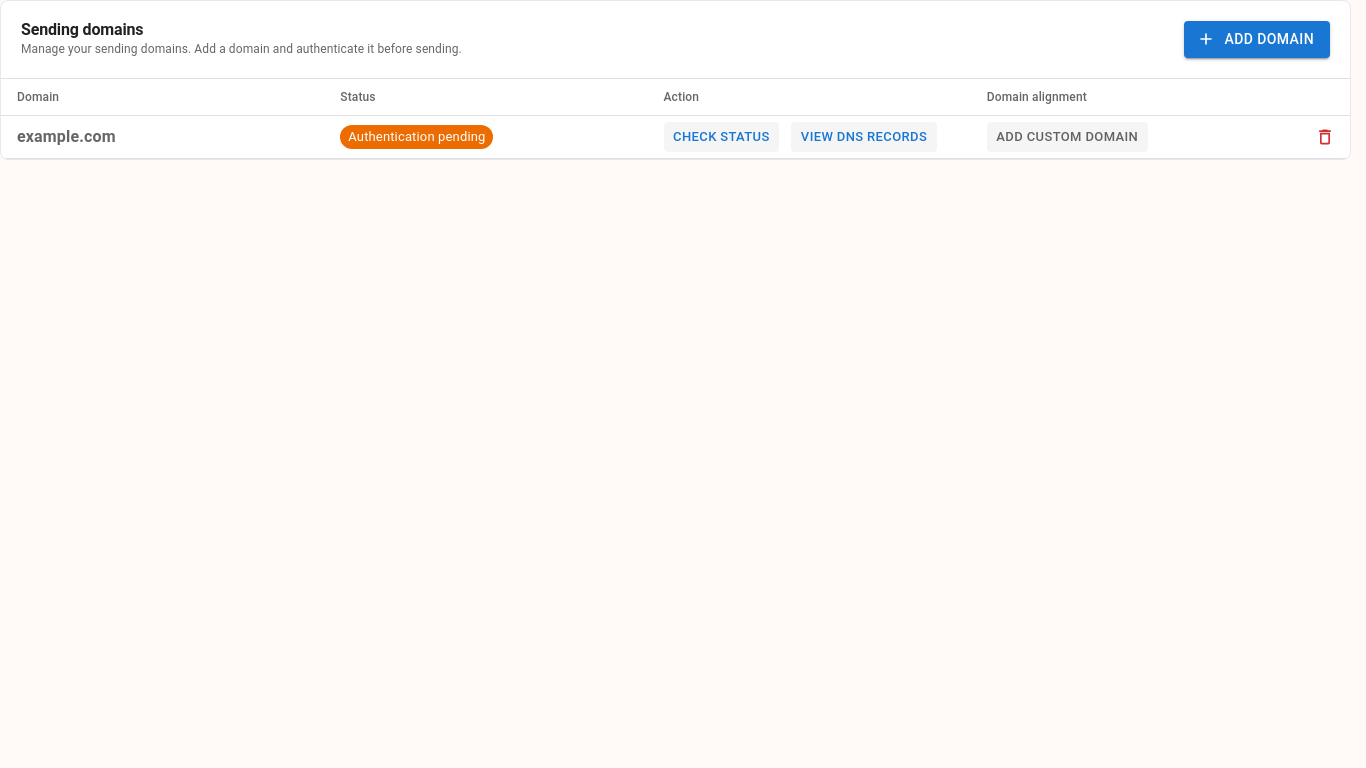
Test: Removing a domain › shows a delete error inside the confirmation
What coordinates should you click on to do the following:
click the button named "Remove"
I would click on:
 (1325, 137)
Its box is x1=1310 y1=122 x2=1340 y2=152.
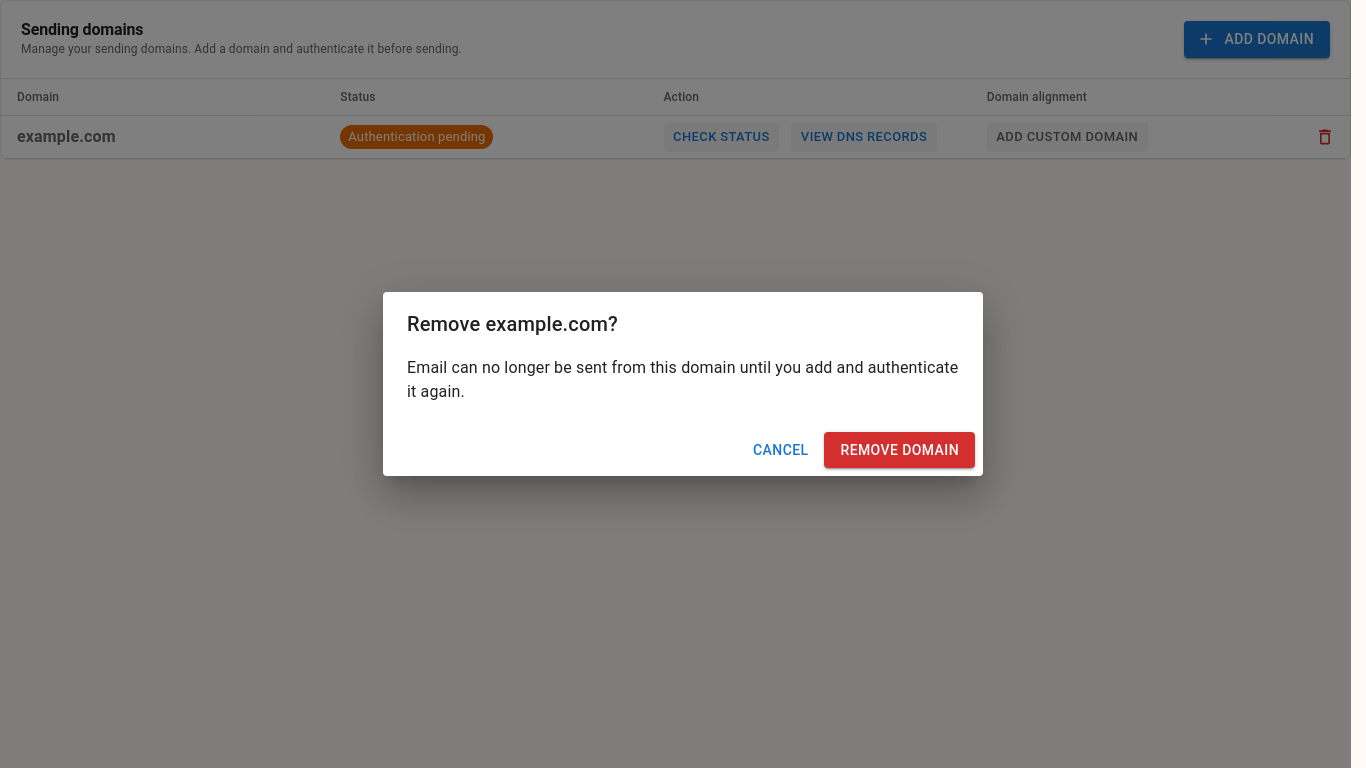
What coordinates should you click on to do the following:
click the button "Remove domain"
I would click on:
 (900, 450)
Its box is x1=824 y1=432 x2=975 y2=468.
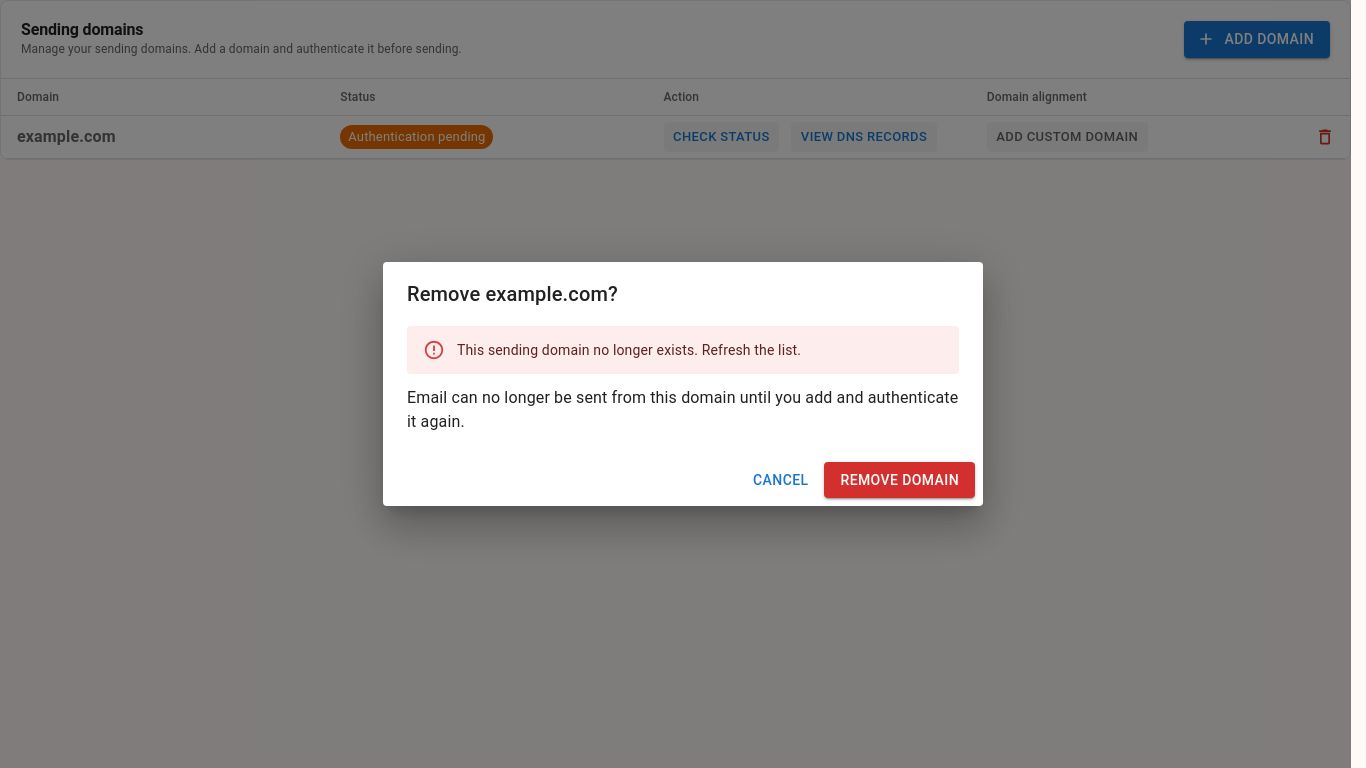
Check: the text "This sending domain no longer exists. Refresh the list." is shown, box x1=457 y1=342 x2=801 y2=358
